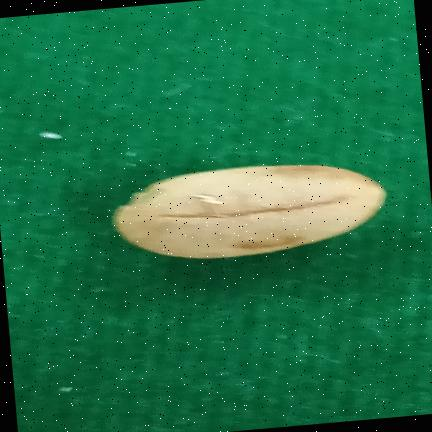parchment: (114, 165, 385, 259)
